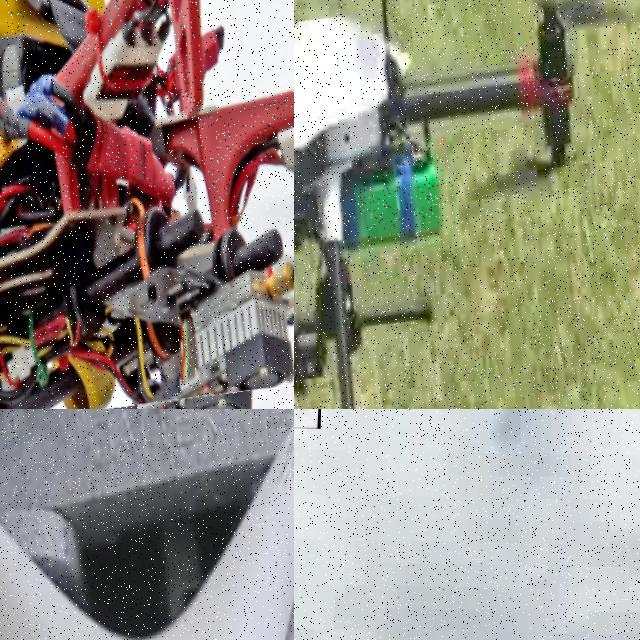0: (294, 0, 640, 409)
drone: (0, 0, 294, 409), (0, 409, 294, 640)
